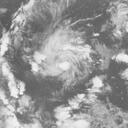cyclone: (35, 28, 91, 81)
